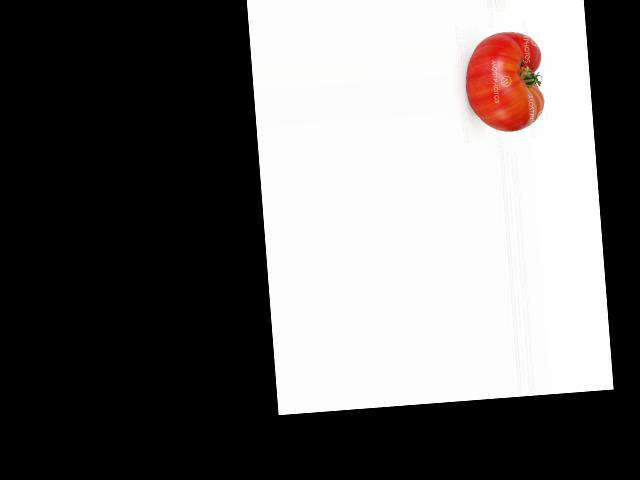tomato: (462, 30, 546, 135)
